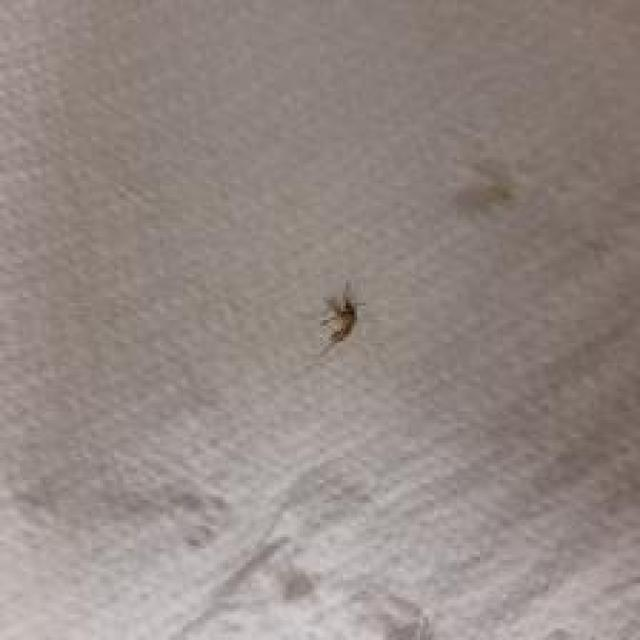Culex: (317, 281, 366, 356)
